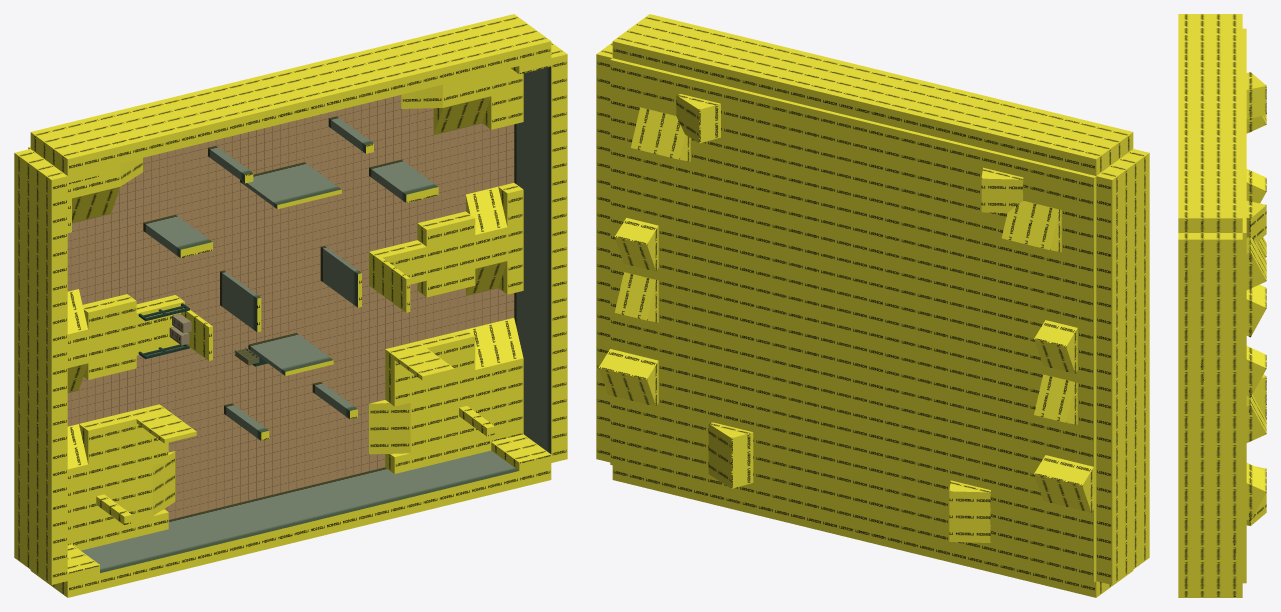
Rendered from arena_test01.glb.
3 views of the same model, side by side, from view 1: azimuth 30°, elevation 25°; view 2: azimuth 150°, elevation 25°; view 3: azimuth 270°, elevation 25° (orthographic). The views are drawn at different scales.
Visible parts, largest first — view 1: entity0_brush0, entity0_brush42, entity0_brush44, entity0_brush41, entity0_brush43, entity0_brush20, entity0_brush2, entity0_brush1, entity0_brush19, entity0_brush24, entity0_brush6, entity0_brush14 (+30 smaller); view 2: entity0_brush0, entity0_brush42, entity0_brush44, entity0_brush41, entity0_brush43, entity0_brush57, entity0_brush47, entity0_brush48, entity0_brush58, entity0_brush54, entity0_brush49, entity0_brush51 (+5 smaller); view 3: entity0_brush43, entity0_brush42, entity0_brush0, entity0_brush48, entity0_brush49, entity0_brush53, entity0_brush57, entity0_brush51, entity0_brush52, entity0_brush50, entity0_brush55, entity0_brush41 (+3 smaller).
Part boxes in pixels (box(x1,y1,x2,y2)): entity0_brush0: box(28, 95, 514, 519); entity0_brush42: box(30, 14, 551, 175); entity0_brush44: box(14, 149, 67, 584); entity0_brush41: box(30, 450, 551, 597); entity0_brush43: box(514, 42, 567, 462); entity0_brush20: box(410, 375, 523, 469); entity0_brush2: box(67, 465, 152, 550); entity0_brush1: box(79, 404, 168, 481); entity0_brush19: box(385, 329, 475, 406); entity0_brush24: box(417, 211, 475, 297); entity0_brush6: box(82, 294, 136, 379); entity0_brush14: box(240, 162, 341, 209); entity0_brush0: box(610, 58, 1096, 582); entity0_brush42: box(612, 14, 1133, 175); entity0_brush44: box(1096, 149, 1149, 584); entity0_brush41: box(612, 465, 1133, 597); entity0_brush43: box(596, 42, 612, 462); entity0_brush57: box(1034, 455, 1096, 512); entity0_brush47: box(708, 422, 753, 488); entity0_brush48: box(598, 349, 658, 406); entity0_brush58: box(949, 480, 990, 542); entity0_brush54: box(1002, 200, 1061, 251); entity0_brush49: box(631, 107, 690, 161); entity0_brush51: box(615, 218, 658, 271); entity0_brush43: box(1178, 233, 1242, 590); entity0_brush42: box(1178, 14, 1242, 232); entity0_brush0: box(1242, 28, 1246, 583); entity0_brush48: box(1242, 463, 1266, 520); entity0_brush49: box(1246, 237, 1266, 289); entity0_brush53: box(1246, 72, 1266, 118); entity0_brush57: box(1246, 284, 1266, 337); entity0_brush51: box(1246, 346, 1266, 397); entity0_brush52: box(1246, 201, 1266, 242); entity0_brush50: box(1246, 395, 1266, 442); entity0_brush55: box(1246, 169, 1266, 203); entity0_brush41: box(1178, 590, 1242, 597).
Bounding box in the file's own units: 2048 × 1664 × 352.
Materials: 12 (12 with a texture image).
